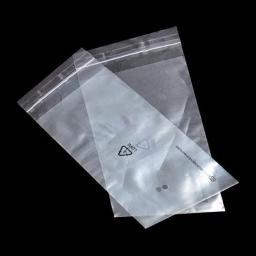Plastic: (17, 27, 240, 230)
